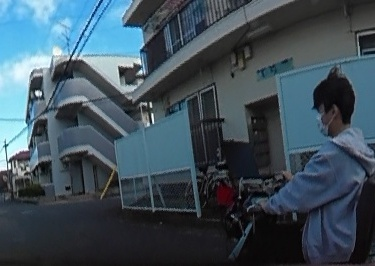person: (252, 71, 364, 266)
